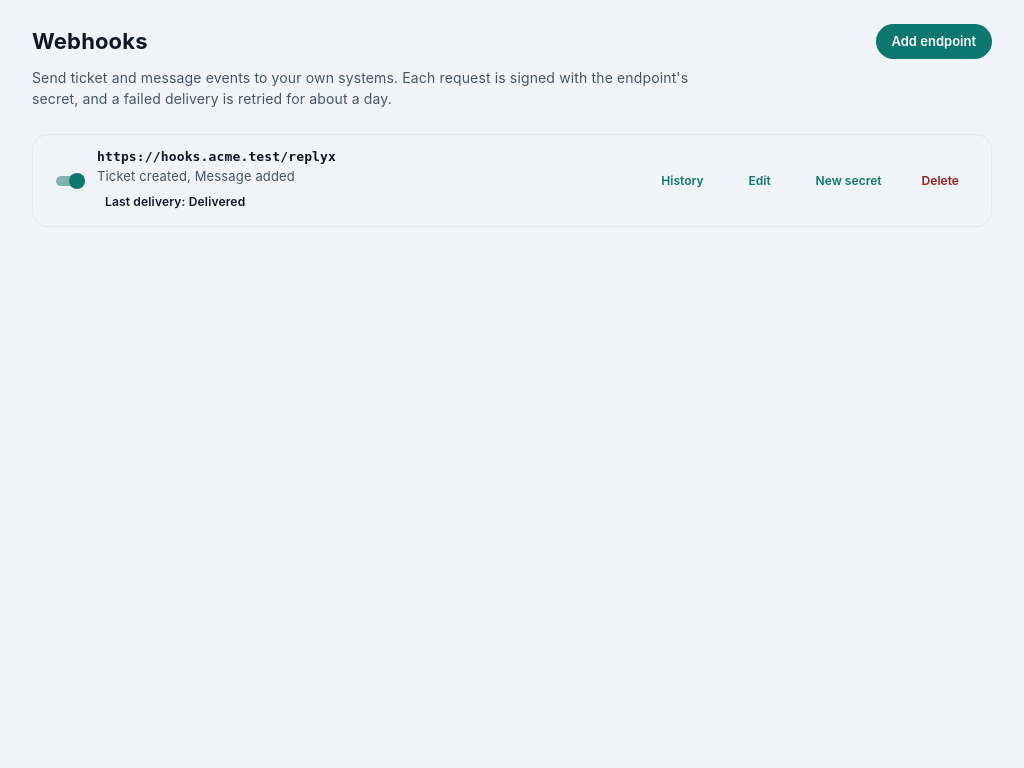
Test: WebhooksPage › switches an endpoint off with its full definition, rotates its secret and deletes it
Click the switch named "Send events to https://hooks.acme.test/replyx" at (77, 181), box [69, 173, 85, 189]
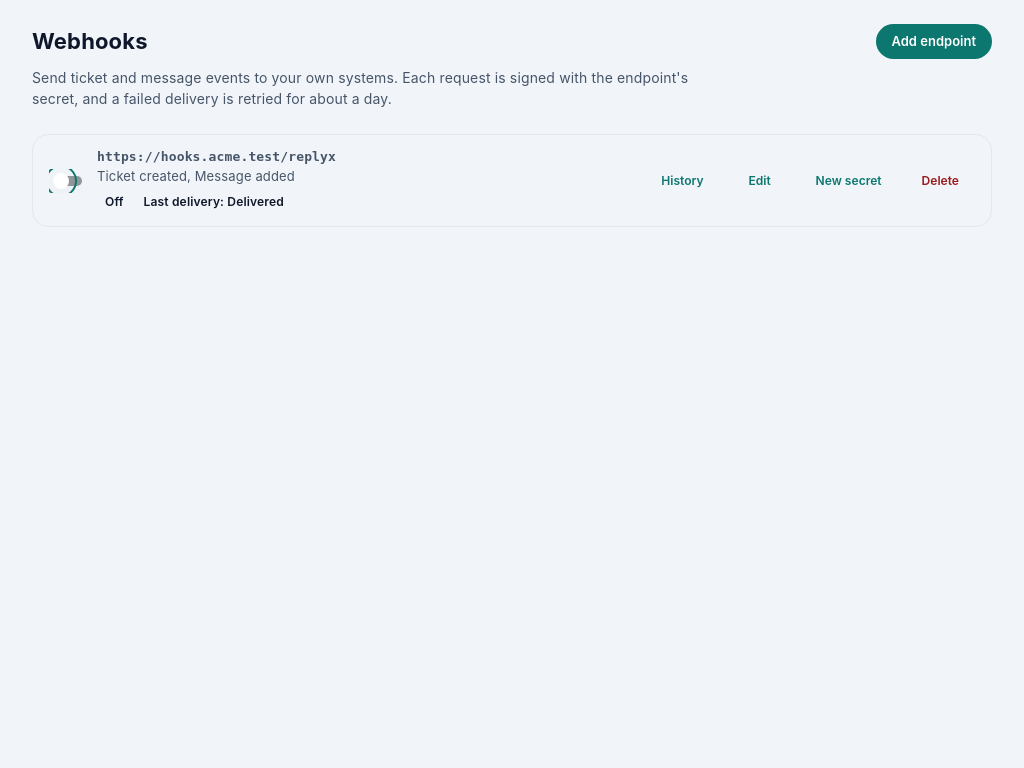
Click the button with aria-label "New secret for https://hooks.acme.test/replyx" at (849, 181), box [800, 166, 898, 195]
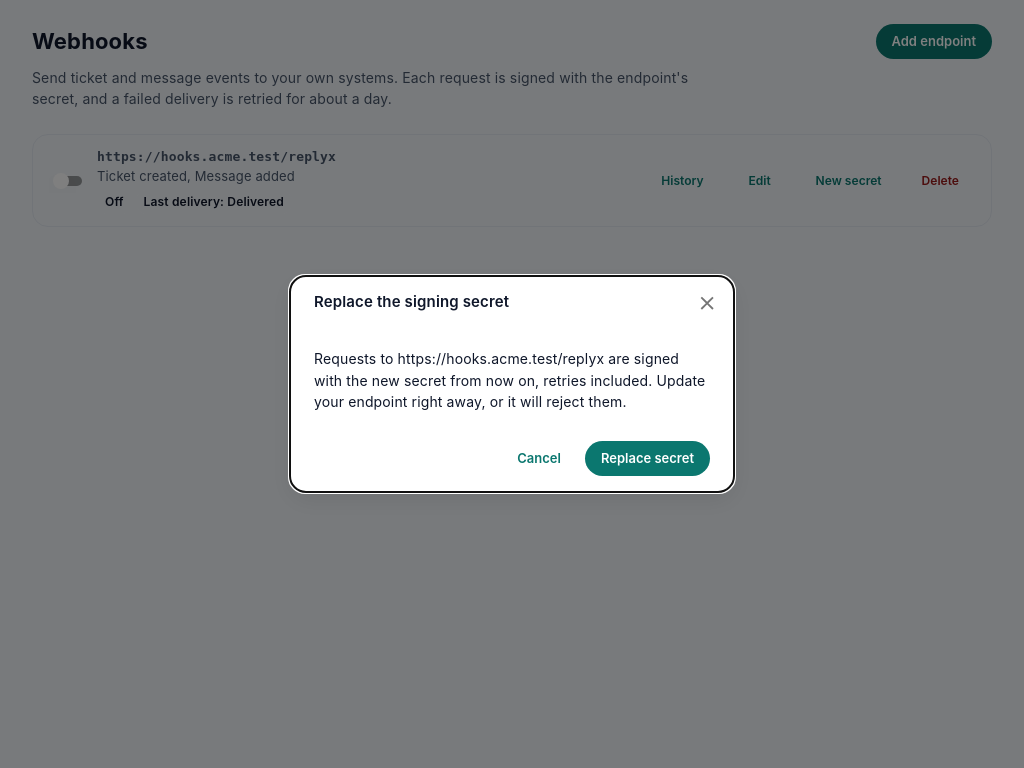
Click the button "Replace secret" at (647, 458), box [585, 441, 710, 476]
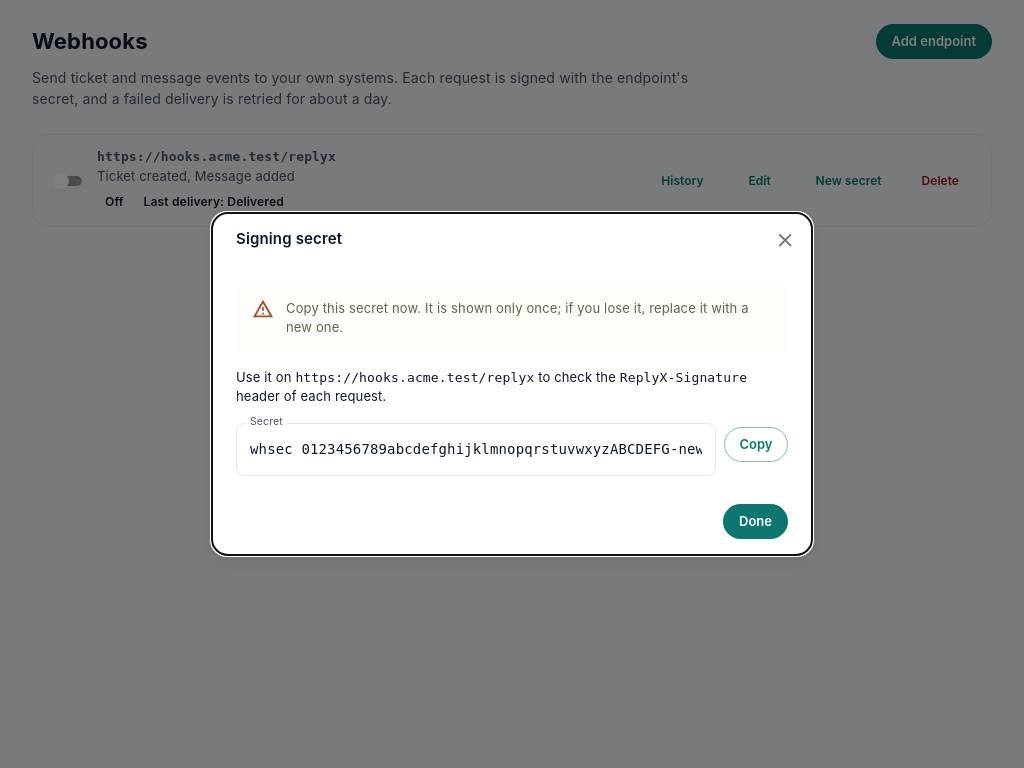
Click the button "Done" at (756, 521), box [723, 504, 788, 539]
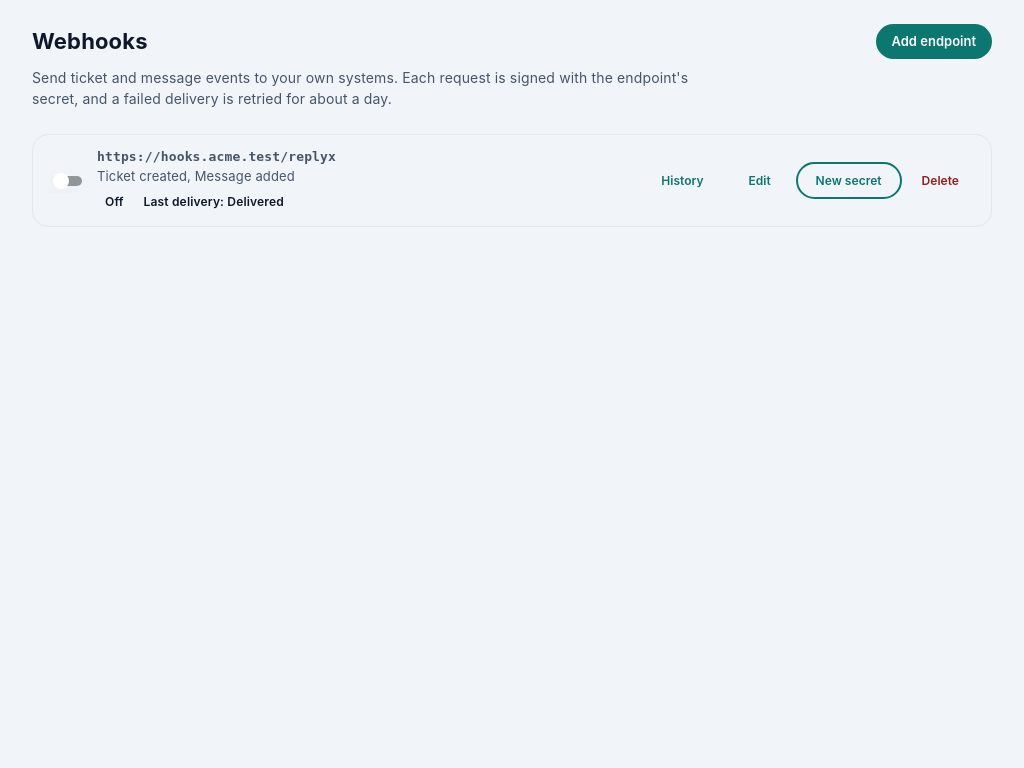
Click the button with aria-label "Delete https://hooks.acme.test/replyx" at (940, 181), box [906, 166, 975, 195]
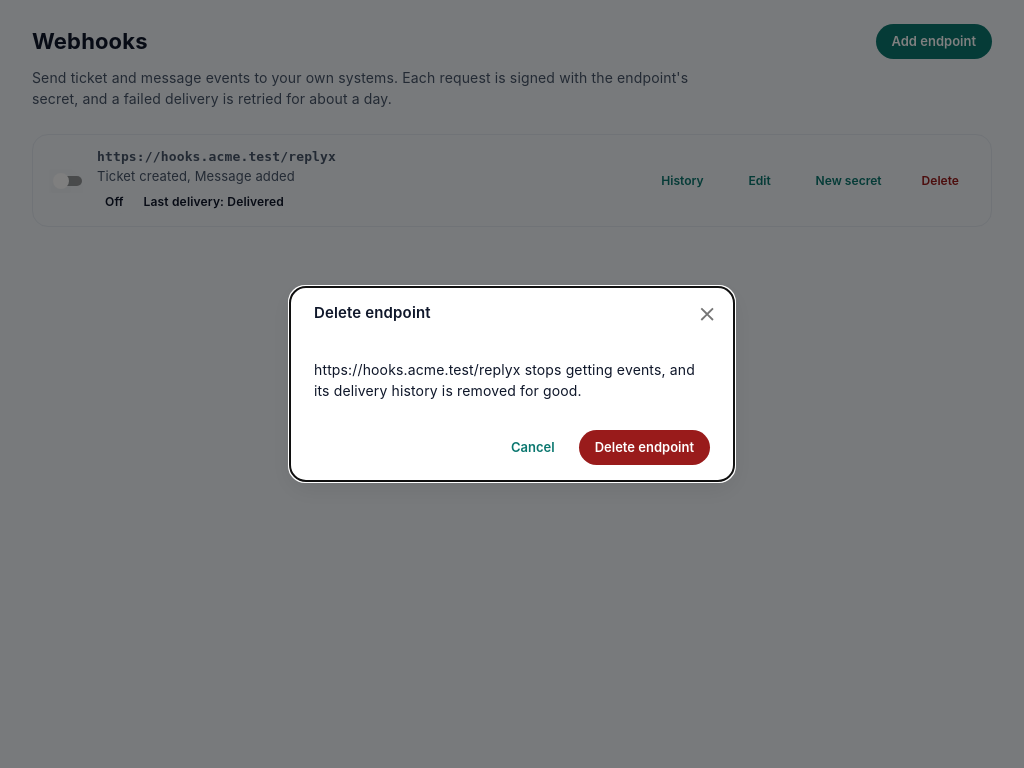
Click the button "Delete endpoint" at (644, 448), box [579, 430, 710, 465]
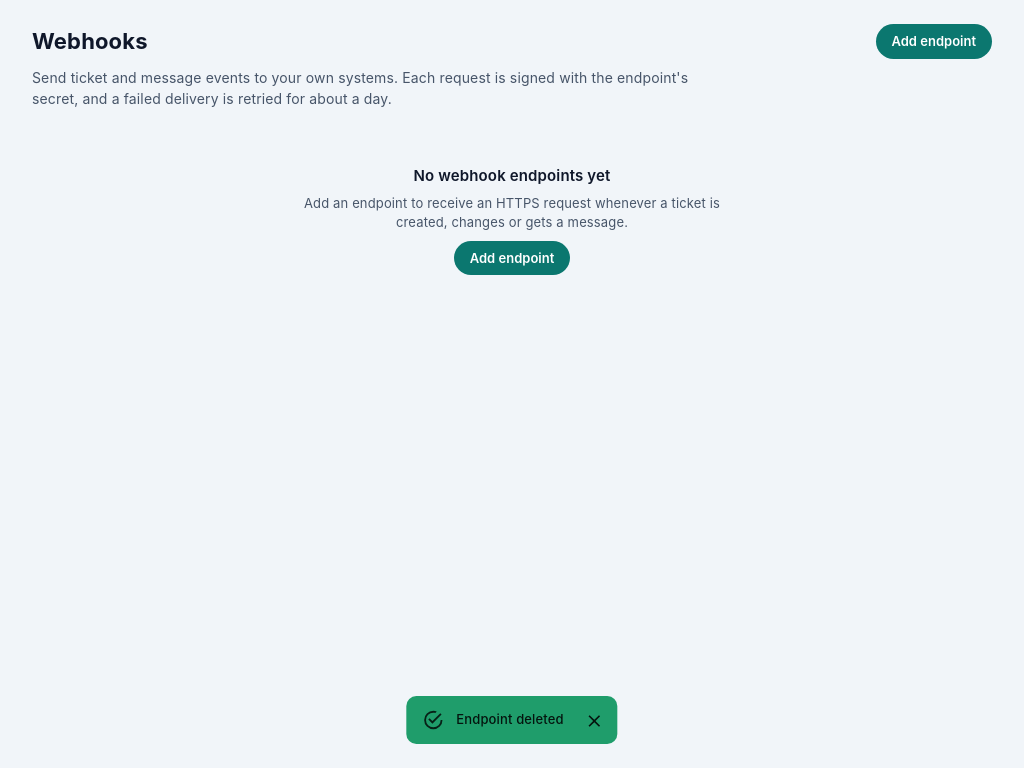
Expected: the heading "No webhook endpoints yet" is shown, [414, 166, 610, 186]
